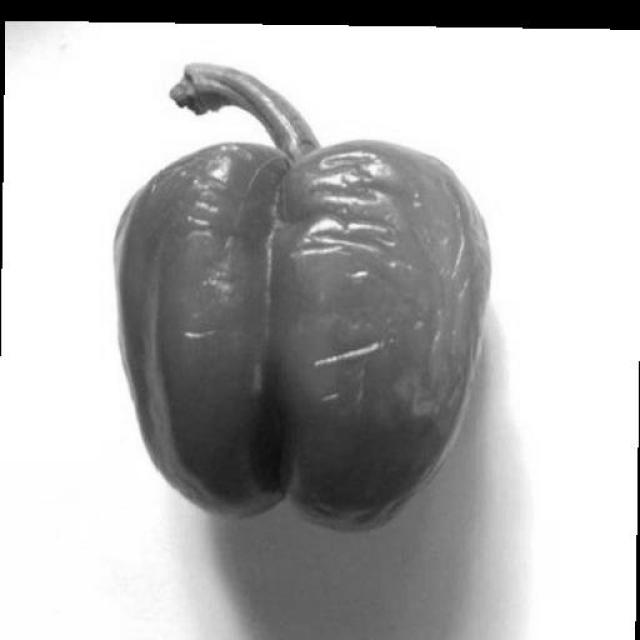Stale_Capsicum: (105, 51, 514, 558)
